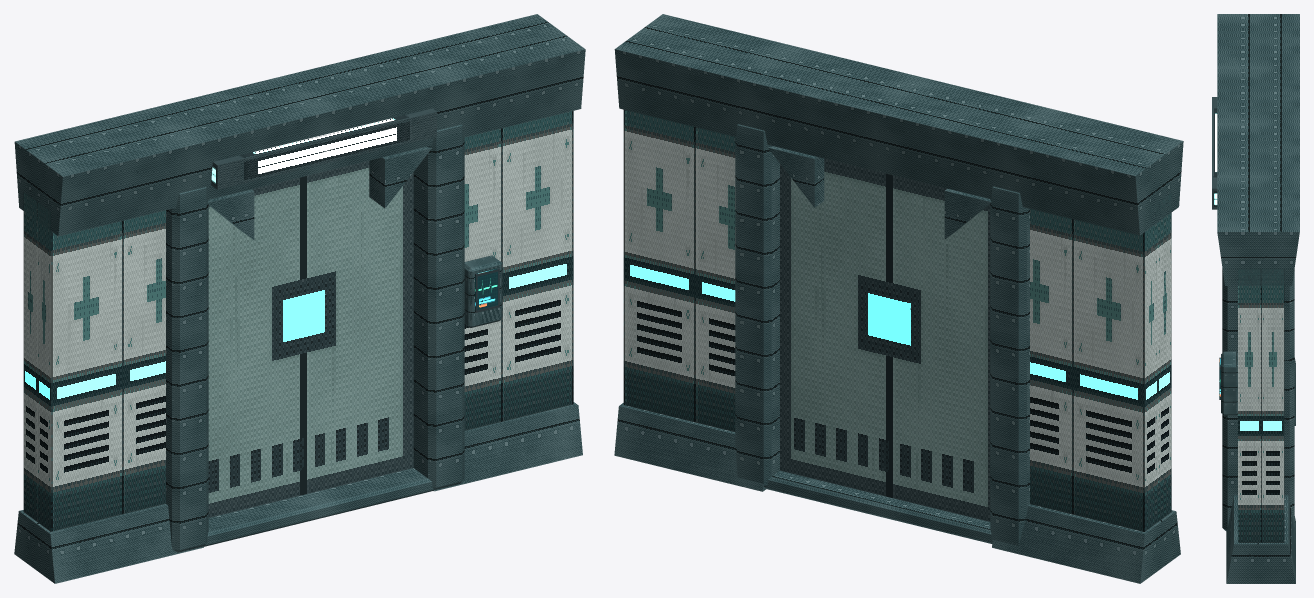
The model's file is door_frame.glb.
The picture shows the model from 3 angles, left to right: view 1: azimuth 30°, elevation 25°; view 2: azimuth 150°, elevation 25°; view 3: azimuth 270°, elevation 25°; orthographic projection. The views are drawn at different scales.
Parts seen in each view (by area): view 1: door_frame__hosp_metal_trim, door_frame__hosp_wall_main, door_frame__hosp_door_airlock, door_frame__hosp_ceiling_panel, door_frame__hosp_monitor_screen; view 2: door_frame__hosp_metal_trim, door_frame__hosp_wall_main, door_frame__hosp_door_airlock; view 3: door_frame__hosp_metal_trim, door_frame__hosp_wall_main, door_frame__hosp_ceiling_panel.
Boxes of the visible parts, x1,y1,x2,y2 form: door_frame__hosp_metal_trim: [14, 14, 585, 583]; door_frame__hosp_wall_main: [23, 111, 573, 531]; door_frame__hosp_door_airlock: [208, 161, 413, 517]; door_frame__hosp_ceiling_panel: [211, 108, 436, 189]; door_frame__hosp_monitor_screen: [475, 268, 499, 312]; door_frame__hosp_metal_trim: [614, 14, 1183, 583]; door_frame__hosp_wall_main: [623, 110, 1171, 531]; door_frame__hosp_door_airlock: [780, 158, 990, 521]; door_frame__hosp_metal_trim: [1217, 14, 1299, 583]; door_frame__hosp_wall_main: [1238, 269, 1284, 542]; door_frame__hosp_ceiling_panel: [1212, 97, 1217, 209].
Bounding box in the file's own units: 4.04 × 3 × 0.68.
5 materials, 5 textured.
